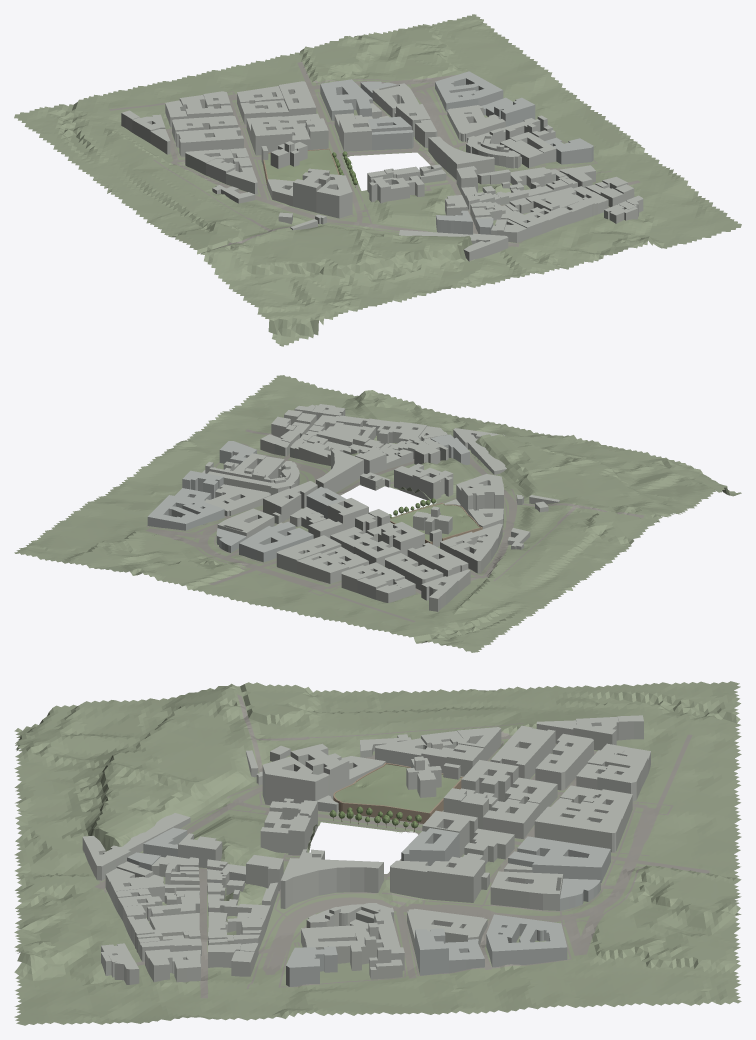
The picture shows the model from 3 angles, top to bottom: view 1: azimuth 30°, elevation 25°; view 2: azimuth 150°, elevation 25°; view 3: azimuth 270°, elevation 25°; orthographic projection. The views are drawn at different scales.
Parts seen in each view (by area): view 1: villa-maraini-context-lazio-terrain, villa-maraini-context-osm-roads, villa-maraini-context-osm-334699412, villa-maraini-context-osm-relation-4493645, villa-maraini-context-osm-relation-4775710, villa-maraini-context-osm-relation-1442860, villa-maraini-context-osm-relation-2713700, villa-maraini-context-osm-337591240, villa-maraini-context-osm-relation-4772674, villa-maraini-context-osm-relation-4775760, villa-maraini-context-osm-relation-4775709, villa-maraini-context-aurora-site-raised-ground (+19 smaller); view 2: villa-maraini-context-lazio-terrain, villa-maraini-context-osm-roads, villa-maraini-context-osm-relation-4493645, villa-maraini-context-osm-334699412, villa-maraini-context-osm-relation-4775710, villa-maraini-context-osm-337591240, villa-maraini-context-osm-relation-4772674, villa-maraini-context-osm-relation-2713700, villa-maraini-context-osm-relation-1442860, villa-maraini-context-osm-relation-4778420, villa-maraini-context-osm-relation-4778421, villa-maraini-context-aurora-site-raised-ground (+26 smaller); view 3: villa-maraini-context-lazio-terrain, villa-maraini-context-osm-roads, villa-maraini-context-osm-334699412, villa-maraini-context-osm-337591240, villa-maraini-context-osm-relation-4493645, villa-maraini-context-osm-relation-4775710, villa-maraini-context-aurora-site-raised-ground, villa-maraini-context-osm-relation-4778420, villa-maraini-context-osm-relation-4775707, villa-maraini-context-osm-relation-4775760, villa-maraini-context-osm-relation-4775706, villa-maraini-context-osm-365885041 (+39 smaller).
Boxes of the visible parts, x1,y1,x2,y2 form: villa-maraini-context-lazio-terrain: (14,14,741,346); villa-maraini-context-osm-roads: (109,61,640,249); villa-maraini-context-osm-334699412: (466,115,555,168); villa-maraini-context-osm-relation-4493645: (435,71,503,112); villa-maraini-context-osm-relation-4775710: (320,79,372,120); villa-maraini-context-osm-relation-1442860: (176,127,243,156); villa-maraini-context-osm-relation-2713700: (367,168,424,203); villa-maraini-context-osm-337591240: (428,136,494,179); villa-maraini-context-osm-relation-4772674: (447,105,505,141); villa-maraini-context-osm-relation-4775760: (316,174,352,218); villa-maraini-context-osm-relation-4775709: (368,116,413,150); villa-maraini-context-aurora-site-raised-ground: (264,149,338,180); villa-maraini-context-lazio-terrain: (14,375,741,652); villa-maraini-context-osm-roads: (145,429,644,622); villa-maraini-context-osm-relation-4493645: (147,495,224,530); villa-maraini-context-osm-334699412: (202,461,299,495); villa-maraini-context-osm-relation-4775710: (239,521,313,562); villa-maraini-context-osm-337591240: (316,449,363,492); villa-maraini-context-osm-relation-4772674: (204,484,270,516); villa-maraini-context-osm-relation-2713700: (409,463,453,501); villa-maraini-context-osm-relation-1442860: (407,542,468,576); villa-maraini-context-osm-relation-4778420: (276,535,341,573); villa-maraini-context-osm-relation-4778421: (296,553,348,583); villa-maraini-context-aurora-site-raised-ground: (390,504,479,541); villa-maraini-context-lazio-terrain: (14,681,741,1025); villa-maraini-context-osm-roads: (94,694,709,998); villa-maraini-context-osm-334699412: (306,903,404,979); villa-maraini-context-osm-337591240: (280,858,383,908); villa-maraini-context-osm-relation-4493645: (486,914,567,967); villa-maraini-context-osm-relation-4775710: (508,836,610,882); villa-maraini-context-aurora-site-raised-ground: (335,764,461,812); villa-maraini-context-osm-relation-4778420: (534,806,621,852); villa-maraini-context-osm-relation-4775707: (490,871,563,910); villa-maraini-context-osm-relation-4775760: (262,756,329,805); villa-maraini-context-osm-relation-4775706: (427,861,484,902); villa-maraini-context-osm-365885041: (82,813,190,880).
Bounding box in the file's own units: 607 × 69.23 × 607.
